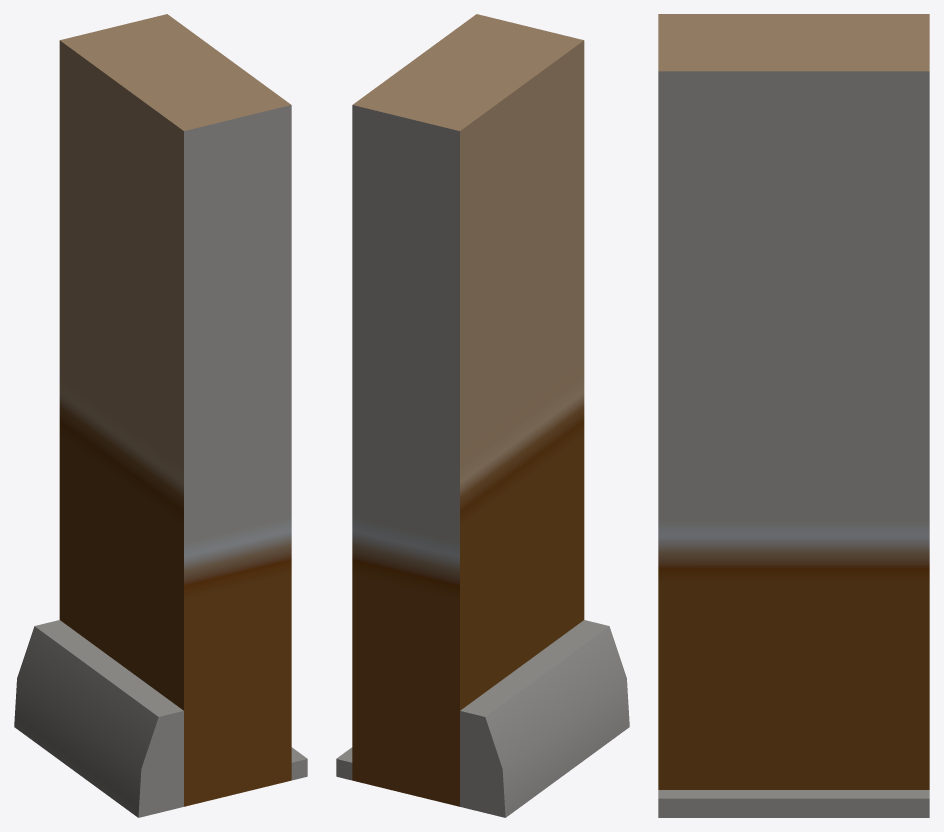
Rendered from SM_Wall_Short_NoTop.fbx.
3 views of the same model, side by side, from view 1: azimuth 30°, elevation 25°; view 2: azimuth 150°, elevation 25°; view 3: azimuth 270°, elevation 25° (orthographic). The views are drawn at different scales.
Visible parts, largest first — view 1: SM_Wall_Short_NoTop; view 2: SM_Wall_Short_NoTop; view 3: SM_Wall_Short_NoTop.
Part boxes in pixels (<box>): SM_Wall_Short_NoTop: <box>14,14,307,817</box>; SM_Wall_Short_NoTop: <box>336,14,629,817</box>; SM_Wall_Short_NoTop: <box>658,14,929,817</box>.
Size of the model in its own units: 78.71 by 300 by 100.
